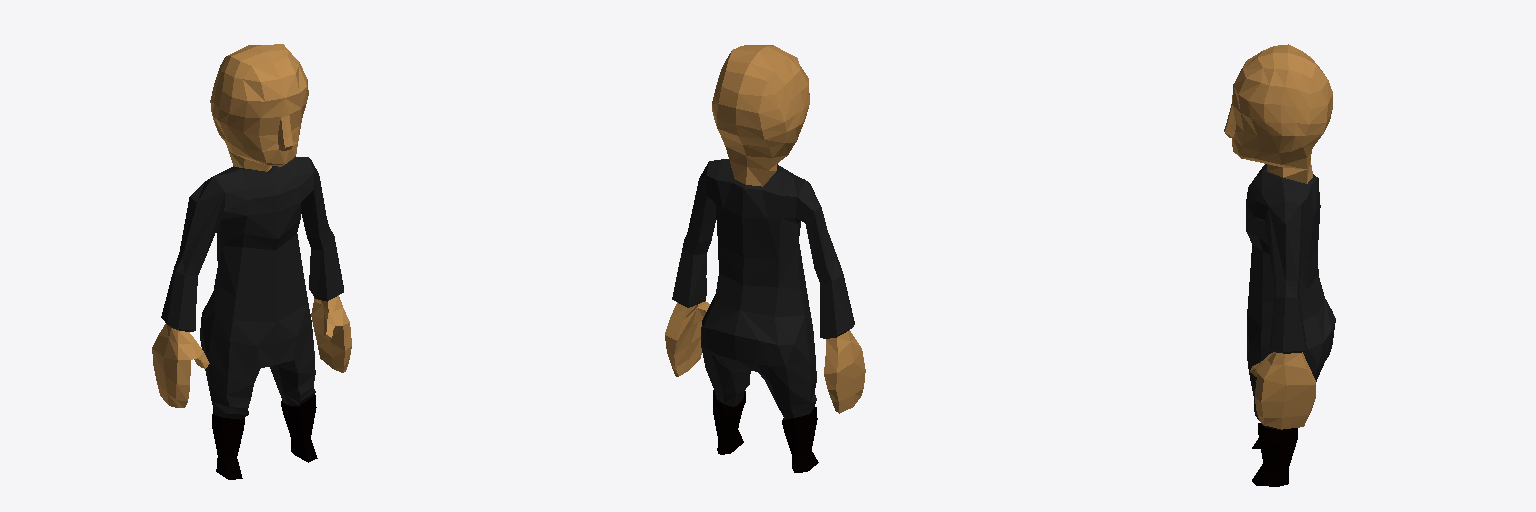
The model's file is Human.obj.
The picture shows the model from 3 angles: view 1: azimuth 30°, elevation 25°; view 2: azimuth 150°, elevation 25°; view 3: azimuth 270°, elevation 25°; orthographic projection.
Parts seen in each view (by area): view 1: Human_Body; view 2: Human_Body; view 3: Human_Body.
Part boxes in pixels (left/top/right/bottom): Human_Body: left=152, top=44, right=351, bottom=479; Human_Body: left=665, top=45, right=865, bottom=472; Human_Body: left=1224, top=44, right=1335, bottom=486.
Size of the model in its own units: 2.53 by 5.6 by 1.38.